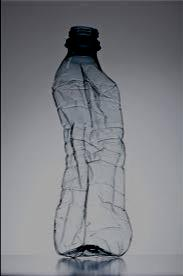Plastic: (45, 14, 136, 271)
